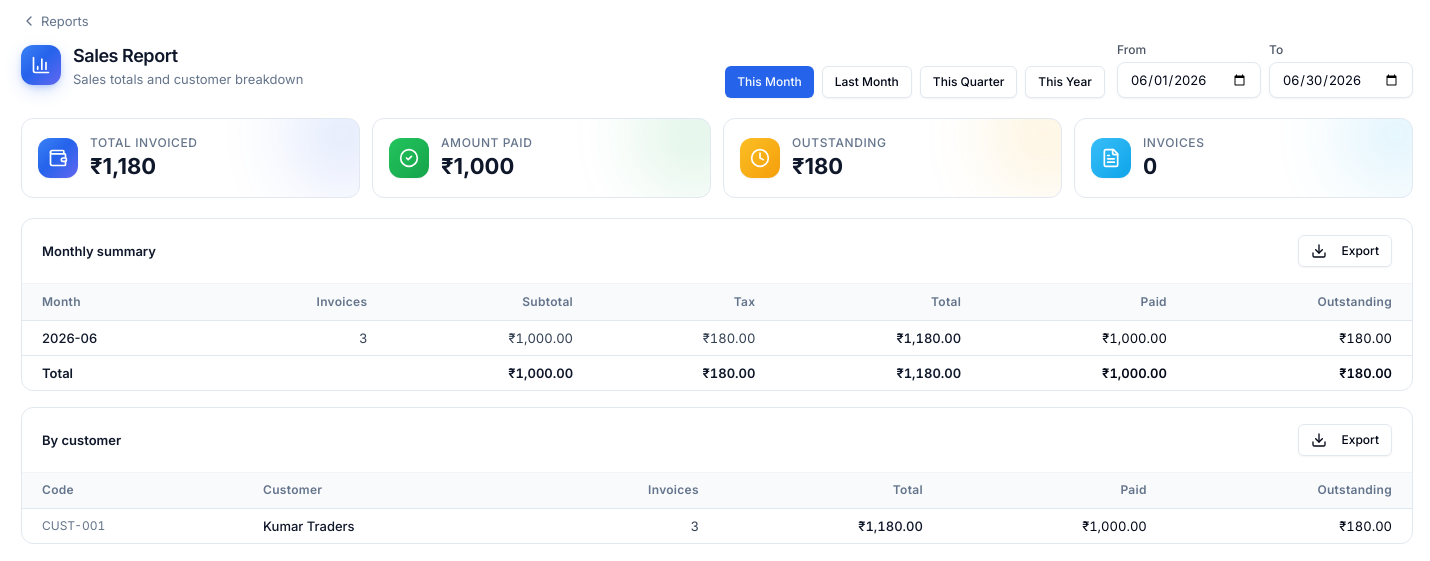
Test: SalesReportView › refetches and renders new data when the date range changes
The image size is (1430, 561).
Click the button "Last Month": (867, 82) [822, 66, 912, 98]
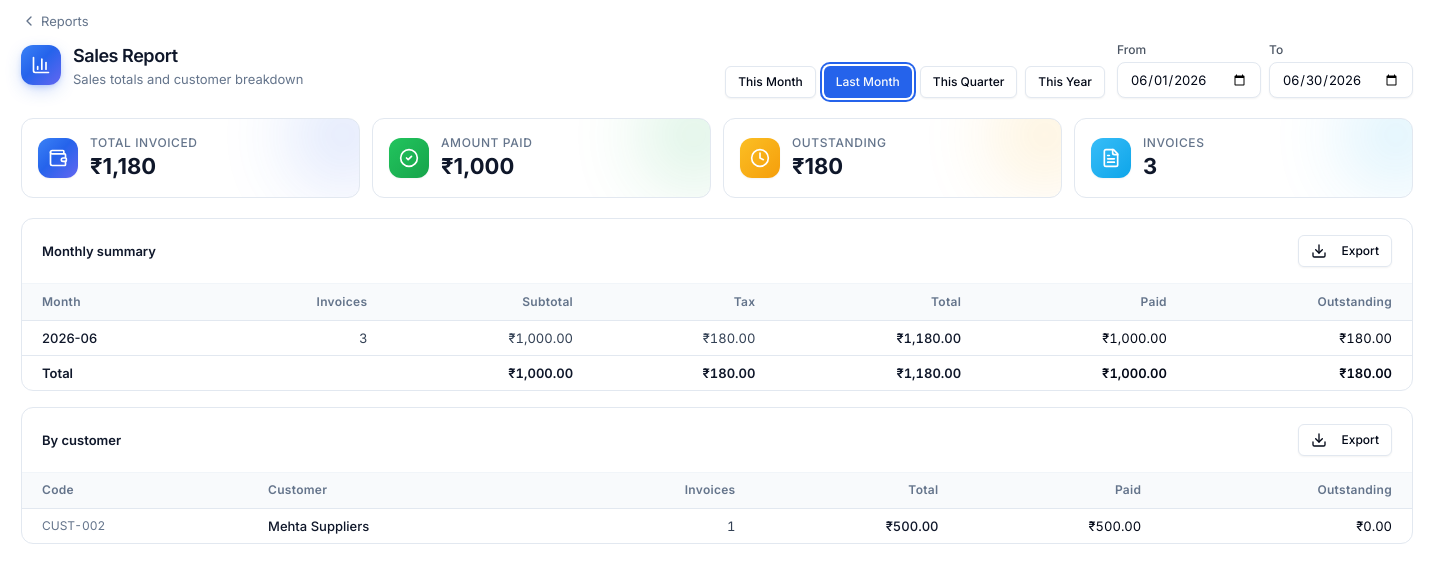
Now the text "Mehta Suppliers" is shown, box [248, 508, 557, 543]
